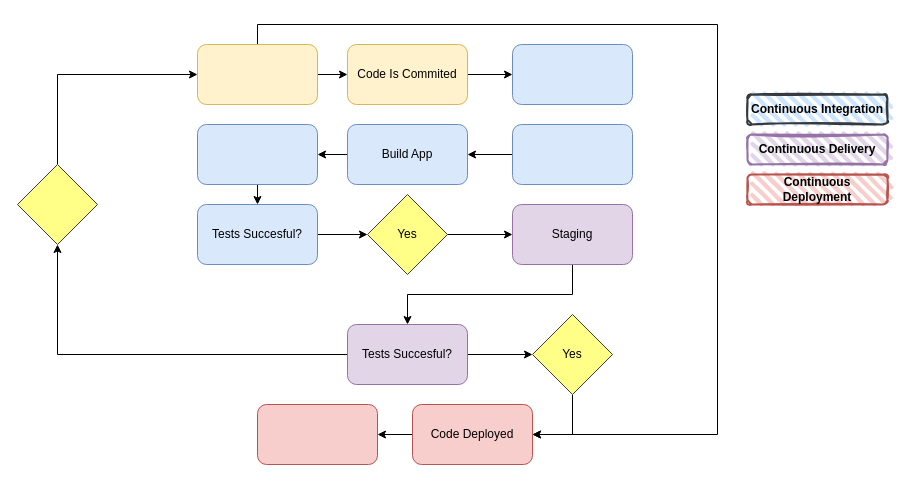
This 906x482 diagram has some shape labels left out. Here are the shapes that lost their labels. From the top down, the centre of each, then its label:
At (257,74): "Code Is Developed".
At (572,74): "GitHub".
At (257,154): "Test App Code".
At (572,154): "CircleCI".
At (57,204): "No".
At (317,434): "Code Public".
